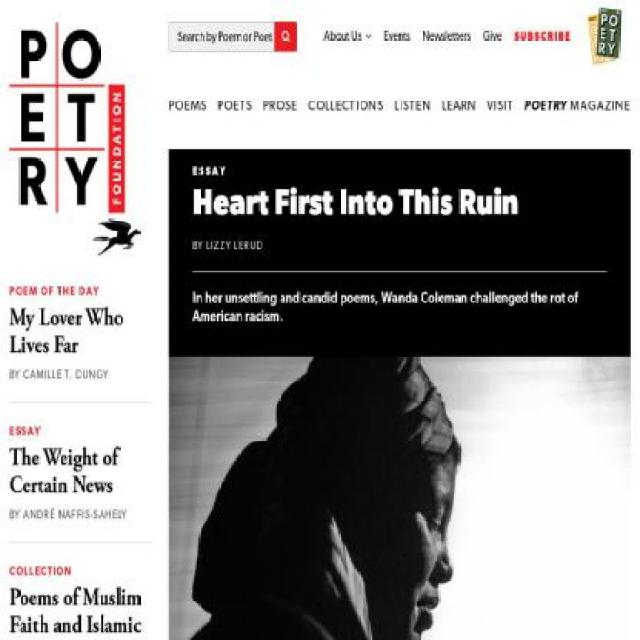button: (168, 357, 632, 638), (323, 26, 371, 46), (274, 20, 298, 52)
field: (168, 20, 298, 52)
